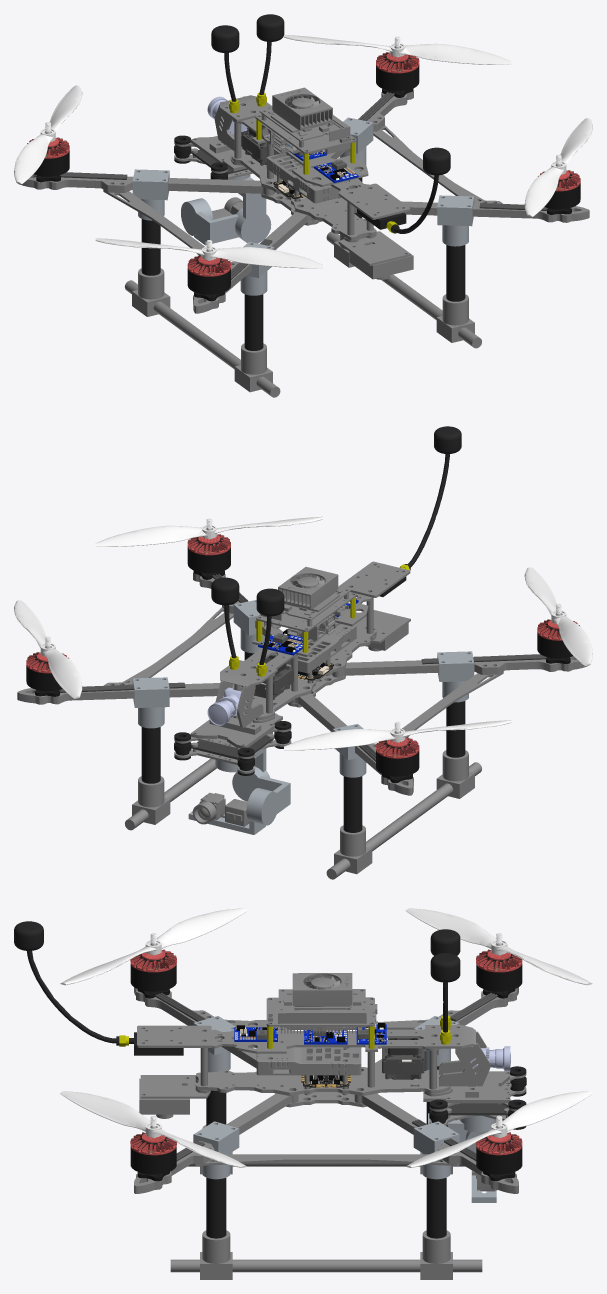
Rendered from AgroSenseV1.fbx.
3 renders of one model, top to bottom at view 1: azimuth 30°, elevation 25°; view 2: azimuth 150°, elevation 25°; view 3: azimuth 270°, elevation 25°, orthographic. The views are drawn at different scales.
Visible parts, largest first — view 1: Arm.001, Botom plate, 8x3.002, 8x3.8, COMPOUND.002, COMPOUND, 8x3.001, 8x3.003, Open CASCADE STEP translator 7.6 1, ANY.005, Arm.003, COMPOUND.003 (+38 smaller); view 2: Arm.002, 8x3.003, 8x3.001, 8x3.8, 8x3.002, COMPOUND.003, COMPOUND.001, Arm, Open CASCADE STEP translator 7.6 1, COMPOUND, ANY.005, Botom plate (+32 smaller); view 3: Botom plate, -01.006, 8x3.002, 8x3.8, 8x3.001, COMPOUND, COMPOUND.003, 8x3.003, COMPOUND.002, MIANKE-PIXHAWK6C-LV-C1, COMPOUND.001, Open CASCADE STEP translator 7.6 1 (+39 smaller).
Boxes of the visible parts, left/top/right/bottom form: Arm.001: left=18, top=174, right=275, bottom=195; Botom plate: left=231, top=149, right=376, bottom=240; 8x3.002: left=95, top=238, right=322, bottom=268; 8x3.8: left=284, top=35, right=511, bottom=64; COMPOUND.002: left=358, top=36, right=419, bottom=120; COMPOUND: left=187, top=239, right=272, bottom=301; 8x3.001: left=524, top=118, right=592, bottom=216; 8x3.003: left=14, top=85, right=82, bottom=184; Open CASCADE STEP translator 7.6 1: left=272, top=87, right=332, bottom=130; ANY.005: left=125, top=280, right=280, bottom=397; Arm.003: left=346, top=200, right=589, bottom=222; COMPOUND.003: left=27, top=122, right=127, bottom=182; Arm.002: left=331, top=656, right=588, bottom=677; 8x3.003: left=284, top=720, right=511, bottom=750; 8x3.001: left=95, top=516, right=322, bottom=546; 8x3.8: left=14, top=600, right=82, bottom=698; 8x3.002: left=524, top=567, right=592, bottom=666; COMPOUND.003: left=359, top=721, right=419, bottom=783; COMPOUND.001: left=187, top=518, right=247, bottom=602; Arm: left=17, top=682, right=242, bottom=704; Open CASCADE STEP translator 7.6 1: left=278, top=567, right=338, bottom=609; COMPOUND: left=421, top=603, right=579, bottom=664; ANY.005: left=326, top=762, right=481, bottom=879; Botom plate: left=236, top=625, right=376, bottom=720; Botom plate: left=195, top=1067, right=450, bottom=1095; -01.006: left=170, top=1259, right=482, bottom=1272; 8x3.002: left=60, top=908, right=247, bottom=985; 8x3.8: left=405, top=1091, right=592, bottom=1167; 8x3.001: left=60, top=1091, right=247, bottom=1167; COMPOUND: left=130, top=933, right=234, bottom=1039; COMPOUND.003: left=450, top=933, right=522, bottom=1021; 8x3.003: left=405, top=908, right=592, bottom=985; COMPOUND.002: left=412, top=1115, right=522, bottom=1181; MIANKE-PIXHAWK6C-LV-C1: left=256, top=1047, right=361, bottom=1071; COMPOUND.001: left=130, top=1115, right=204, bottom=1181; Open CASCADE STEP translator 7.6 1: left=292, top=973, right=352, bottom=1006.
Bounding box in the file's own units: 49.1 × 25.85 × 46.41.
